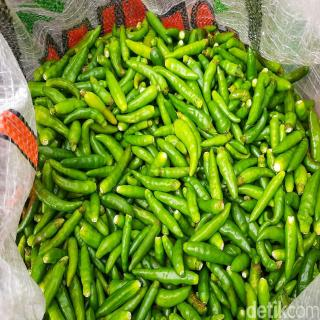Cabai Hijau: (11, 8, 320, 320)
